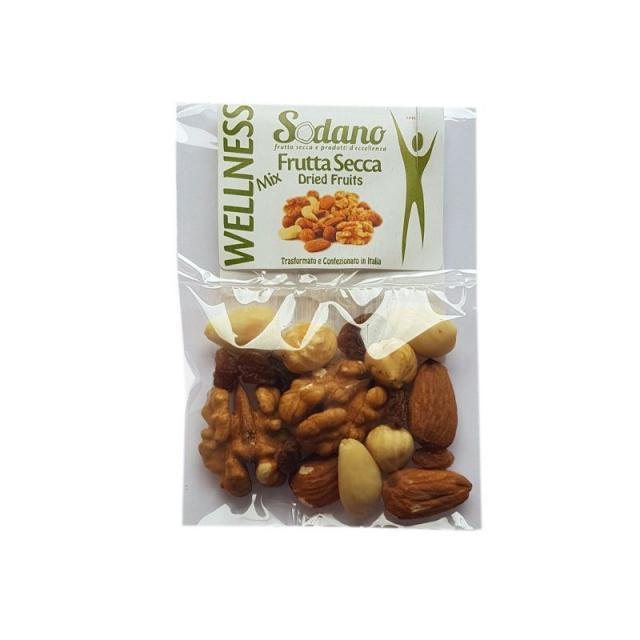Frutta secca: (199, 310, 478, 519)
